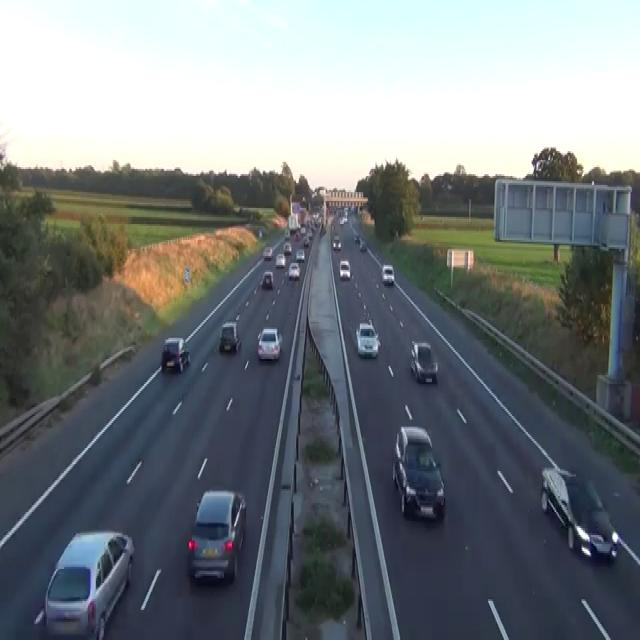Car: (33, 530, 134, 638), (540, 466, 618, 562), (186, 489, 246, 583), (392, 425, 445, 521), (409, 340, 438, 382), (160, 336, 190, 373), (257, 325, 282, 361), (355, 322, 380, 357), (219, 322, 240, 352), (381, 263, 394, 285), (260, 270, 274, 290), (339, 258, 350, 279), (288, 261, 300, 279), (332, 234, 341, 250), (262, 246, 272, 260), (275, 252, 285, 266), (283, 240, 291, 254), (295, 249, 304, 261), (319, 222, 326, 235), (314, 215, 322, 226), (359, 240, 366, 251), (339, 215, 347, 224), (300, 224, 306, 235), (350, 204, 357, 213), (303, 237, 309, 246), (354, 234, 360, 243), (284, 230, 290, 238), (344, 206, 349, 215), (295, 231, 300, 240), (307, 230, 312, 238), (258, 230, 262, 238)
Truck: (288, 213, 299, 231)
